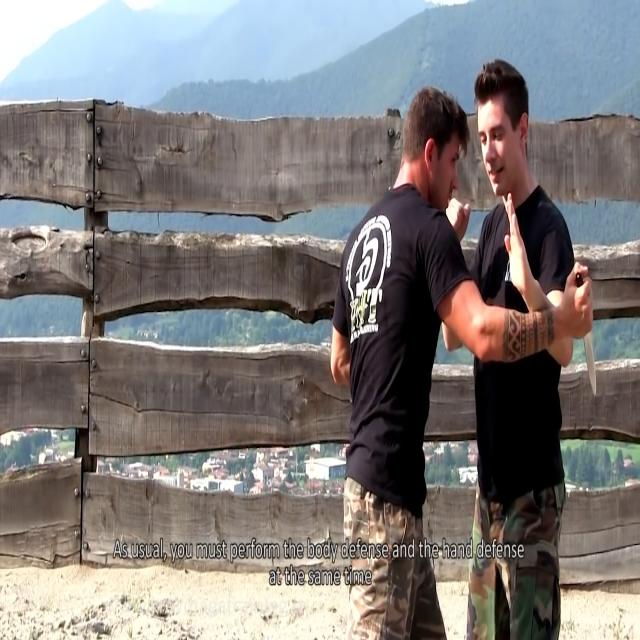knife: (583, 328, 602, 404)
